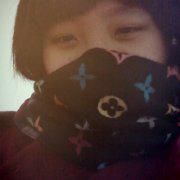OK: (38, 14, 163, 139)
